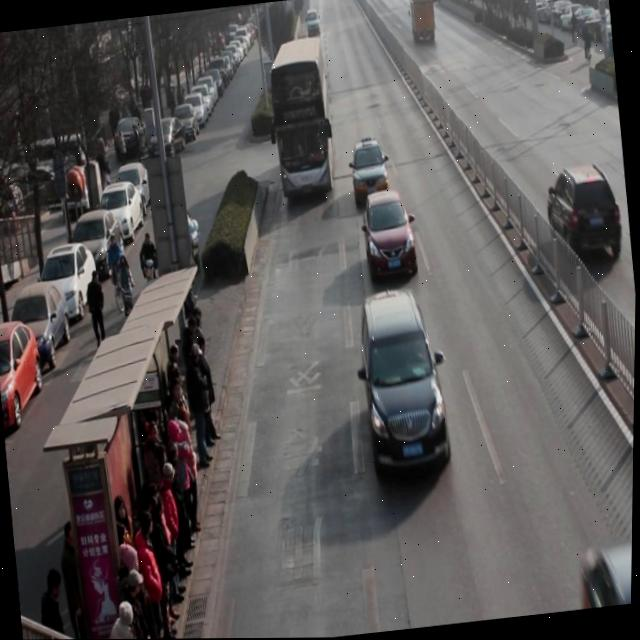bus: (408, 0, 438, 47)
car: (355, 284, 457, 479), (544, 161, 626, 267), (362, 187, 422, 284), (350, 138, 392, 203)
van: (263, 34, 338, 196)
